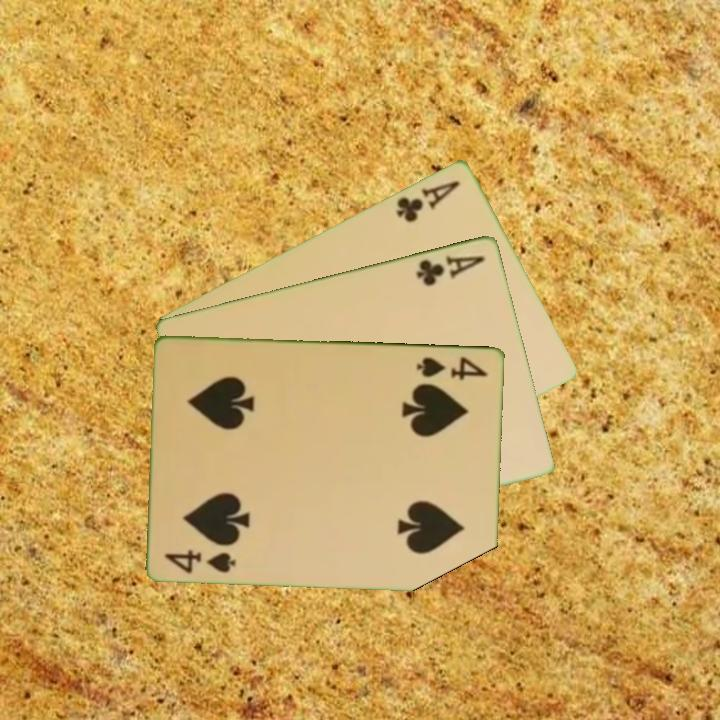4s: (413, 353, 491, 383), (162, 546, 240, 576)
Ac: (392, 176, 463, 225), (413, 251, 488, 289)
